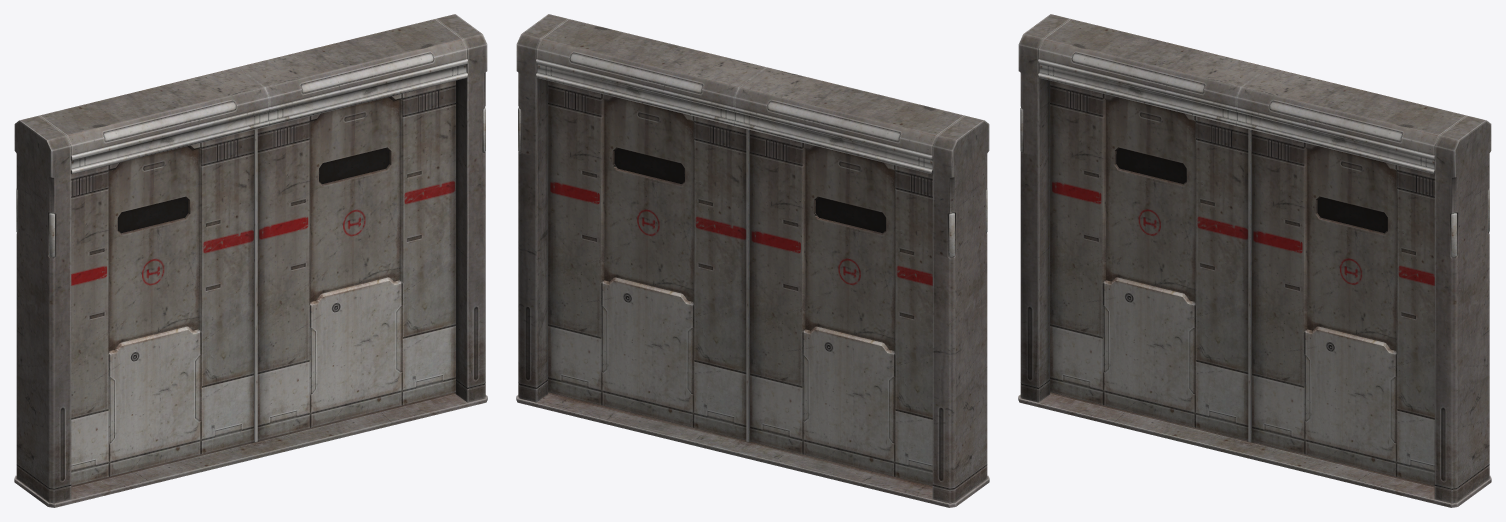
File: slidedoor_theta_large.dae
3 views of the same model, side by side, from view 1: azimuth 30°, elevation 25°; view 2: azimuth 150°, elevation 25°; view 3: azimuth 330°, elevation 25° (orthographic).
Visible parts, largest first — view 1: door, frame; view 2: door, frame; view 3: door, frame.
Boxes of the visible parts, bbox=[...] form: door: bbox=[71, 80, 455, 485]; frame: bbox=[14, 14, 487, 507]; door: bbox=[548, 80, 932, 485]; frame: bbox=[516, 14, 989, 507]; door: bbox=[1050, 80, 1434, 485]; frame: bbox=[1018, 14, 1491, 507].
Bounding box in the file's own units: 7.71 × 6.09 × 1.19.
